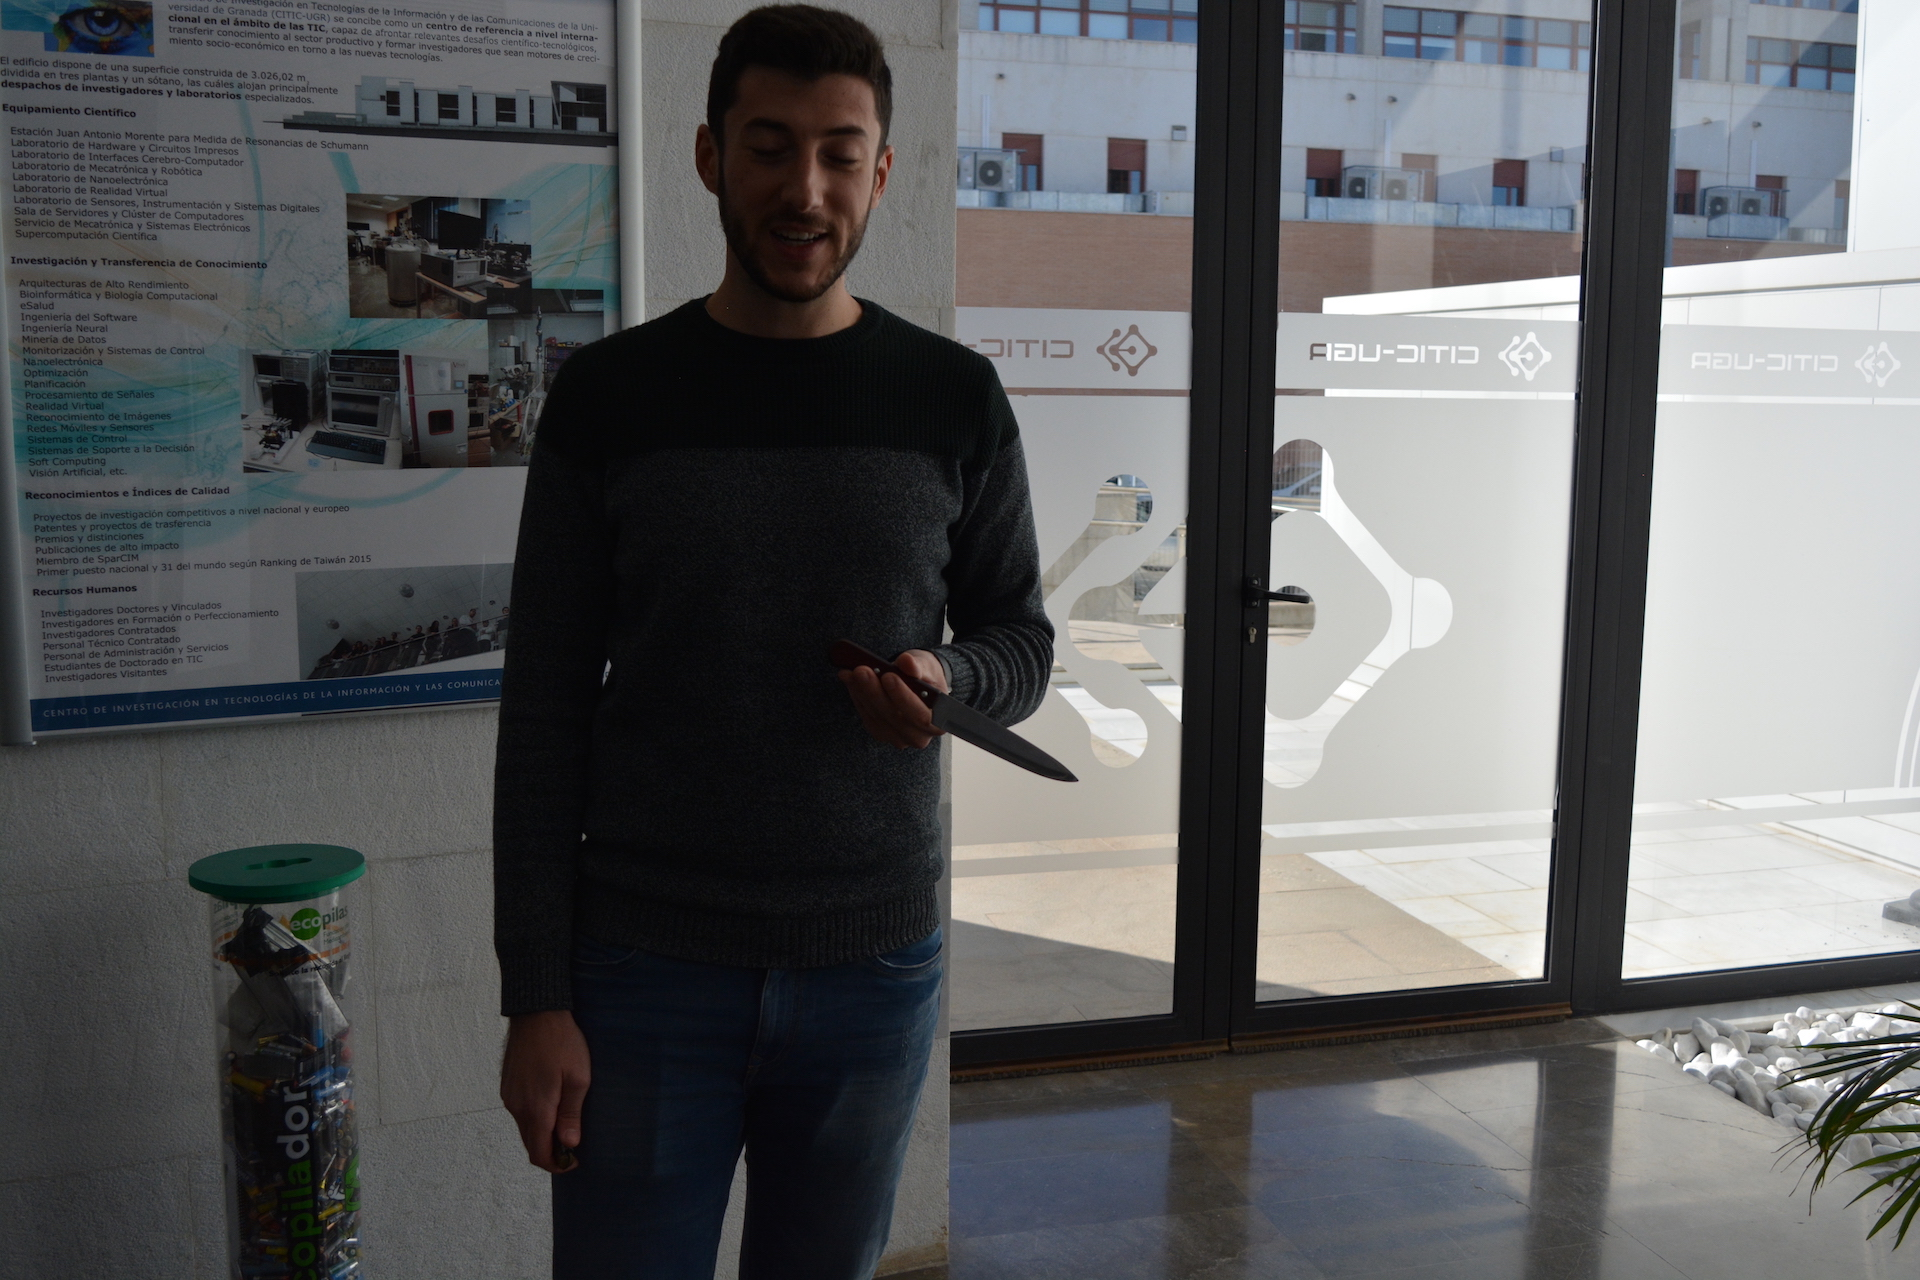knife: (821, 631, 1090, 789)
